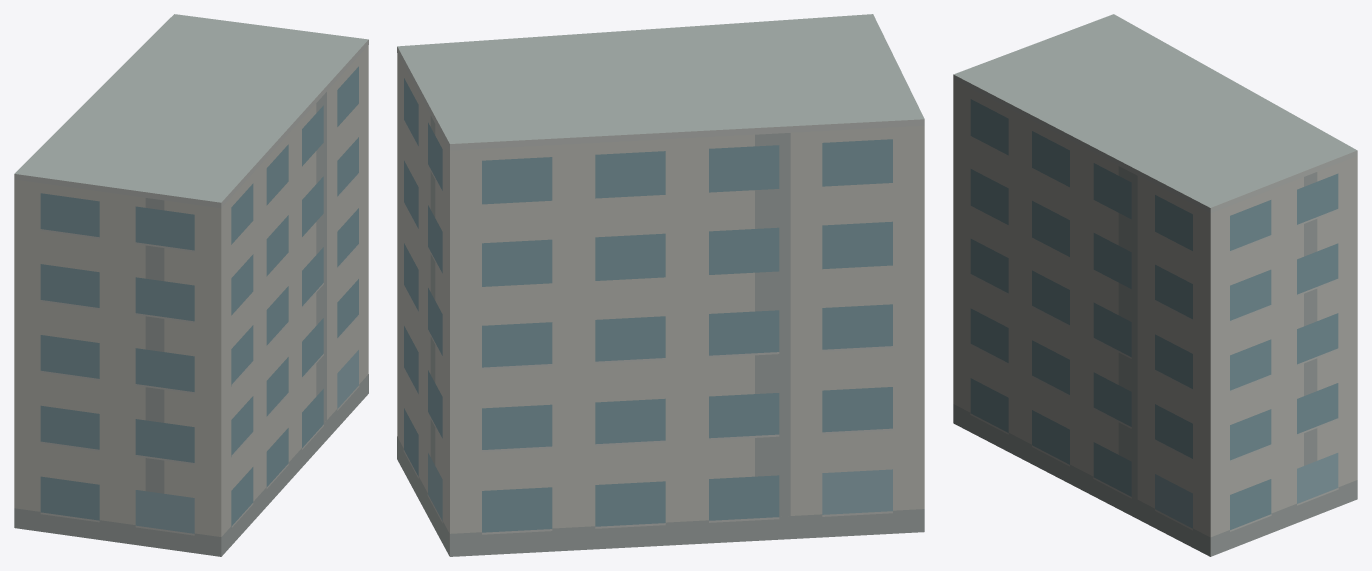
File: survey-upis-32626355.glb
The picture shows the model from 3 angles, left to right: view 1: azimuth 30°, elevation 25°; view 2: azimuth 150°, elevation 25°; view 3: azimuth 270°, elevation 25°; orthographic projection. The views are drawn at different scales.
Parts seen in each view (by area): view 1: survey-upis-32626355.tmp; view 2: survey-upis-32626355.tmp; view 3: survey-upis-32626355.tmp.
Boxes of the visible parts, x1,y1,x2,y2 form: survey-upis-32626355.tmp: (14, 14, 368, 556); survey-upis-32626355.tmp: (397, 14, 924, 556); survey-upis-32626355.tmp: (953, 14, 1357, 556).
Bounding box in the file's own units: 18.19 × 15.25 × 16.02.
